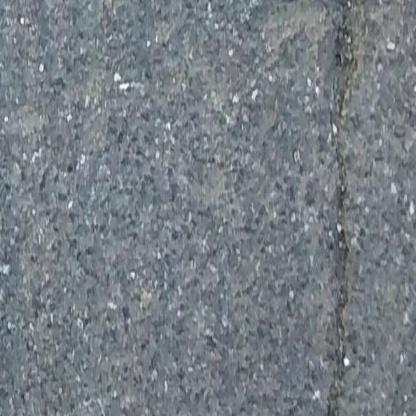Cracks: (322, 126, 358, 416), (340, 0, 356, 124)
